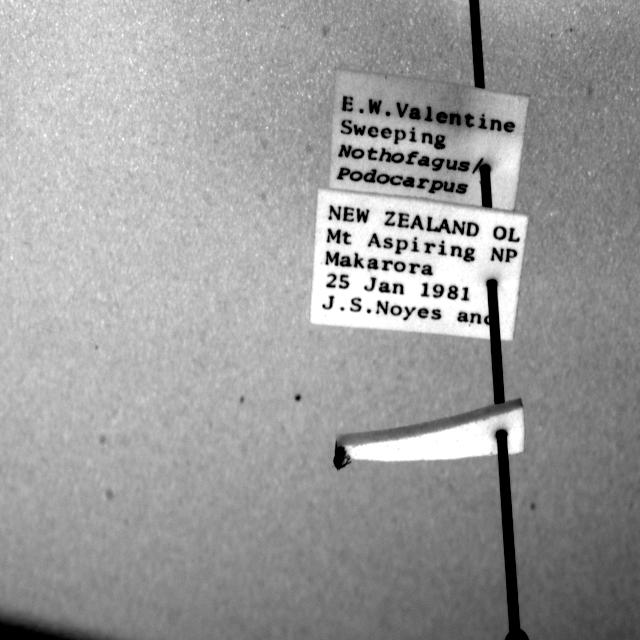typed_label: (310, 189, 528, 339), (330, 69, 529, 210)
